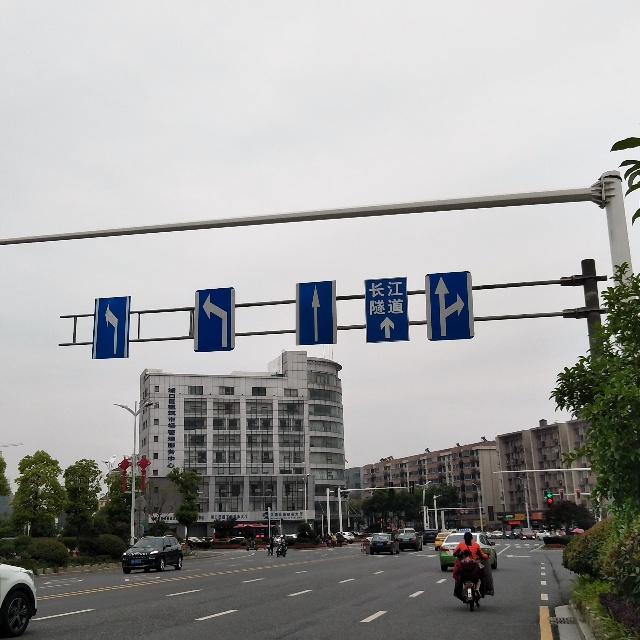left: (194, 287, 234, 354), (94, 296, 128, 357)
straight: (295, 282, 335, 343)
